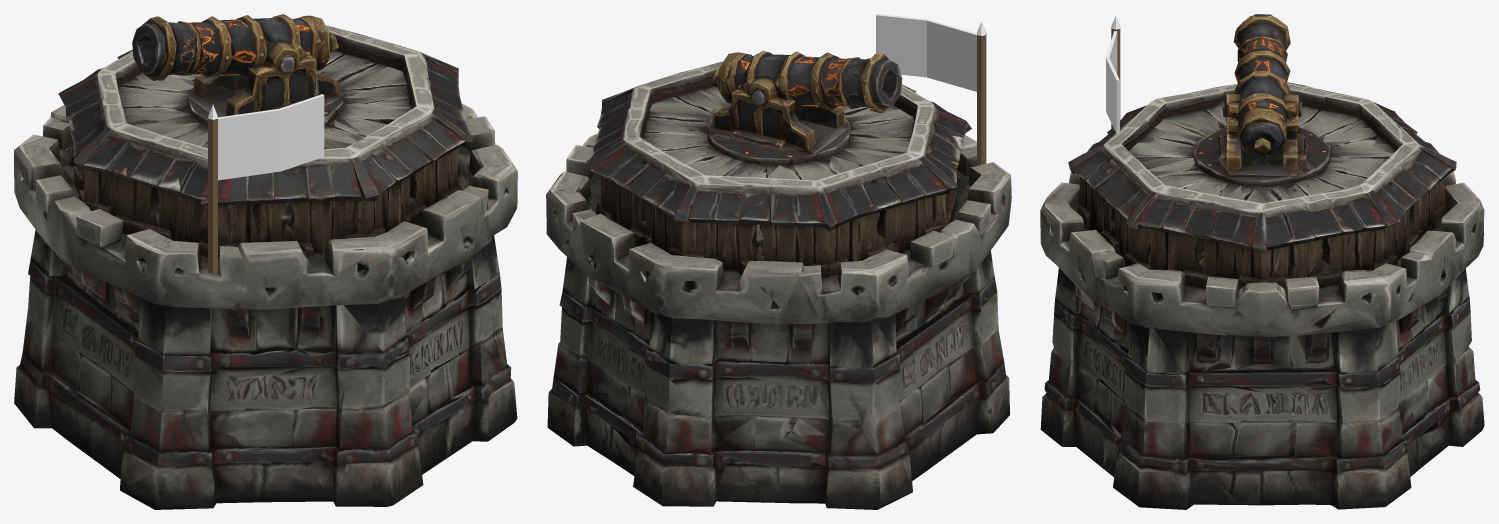
3 renders of one model, left to right at view 1: azimuth 30°, elevation 25°; view 2: azimuth 150°, elevation 25°; view 3: azimuth 270°, elevation 25°, orthographic. The views are drawn at different scales.
Parts seen in each view (by area): view 1: ironhold_rune_bastion, Team_banner; view 2: ironhold_rune_bastion, Team_banner; view 3: ironhold_rune_bastion, Team_banner.
Part boxes in pixels (x1=…): ironhold_rune_bastion: x1=14, y1=14, x2=517, y2=509; Team_banner: x1=208, y1=94, x2=324, y2=274; ironhold_rune_bastion: x1=546, y1=50, x2=1011, y2=509; Team_banner: x1=876, y1=14, x2=986, y2=165; ironhold_rune_bastion: x1=1040, y1=14, x2=1484, y2=509; Team_banner: x1=1106, y1=16, x2=1120, y2=134.
Size of the model in its own units: 1.8 by 1.75 by 1.9.
3 materials, 1 textured.
